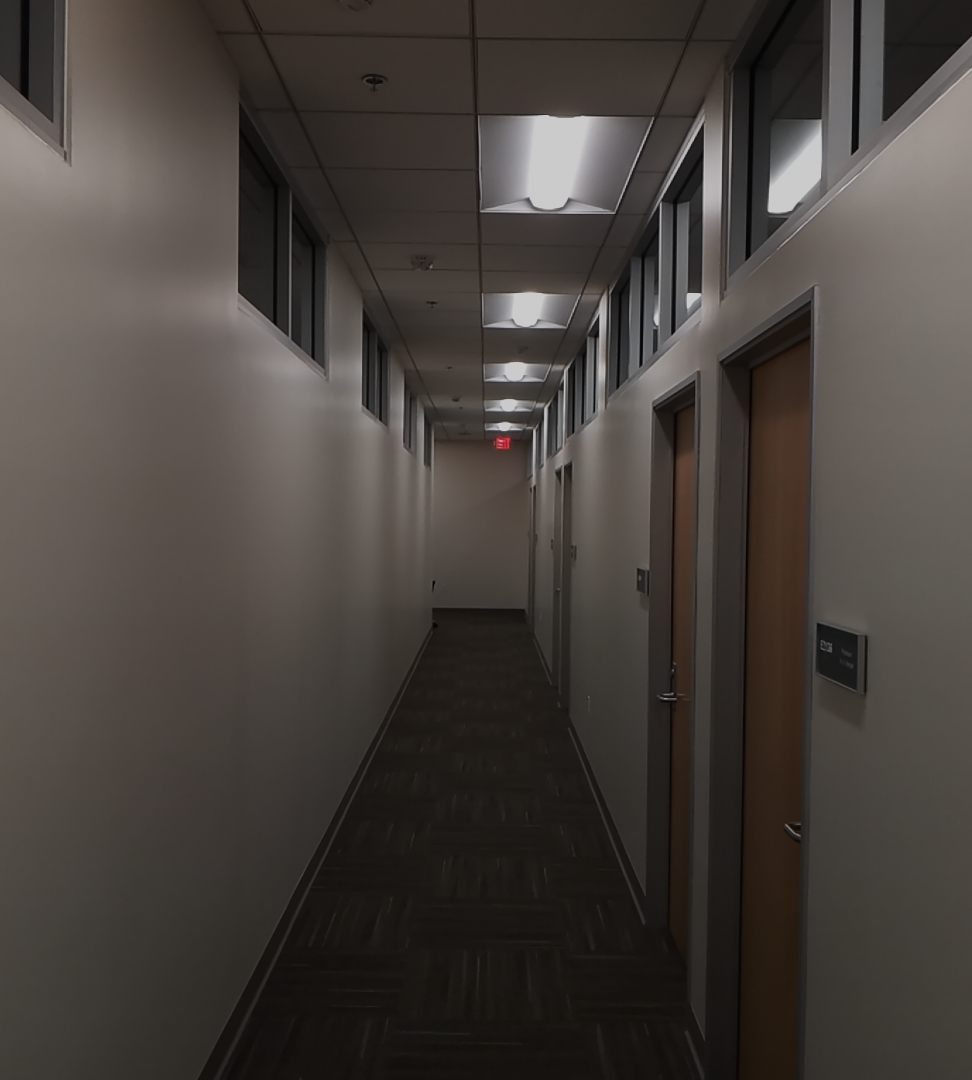emergency_exit: (813, 620, 868, 697), (492, 432, 512, 452)
